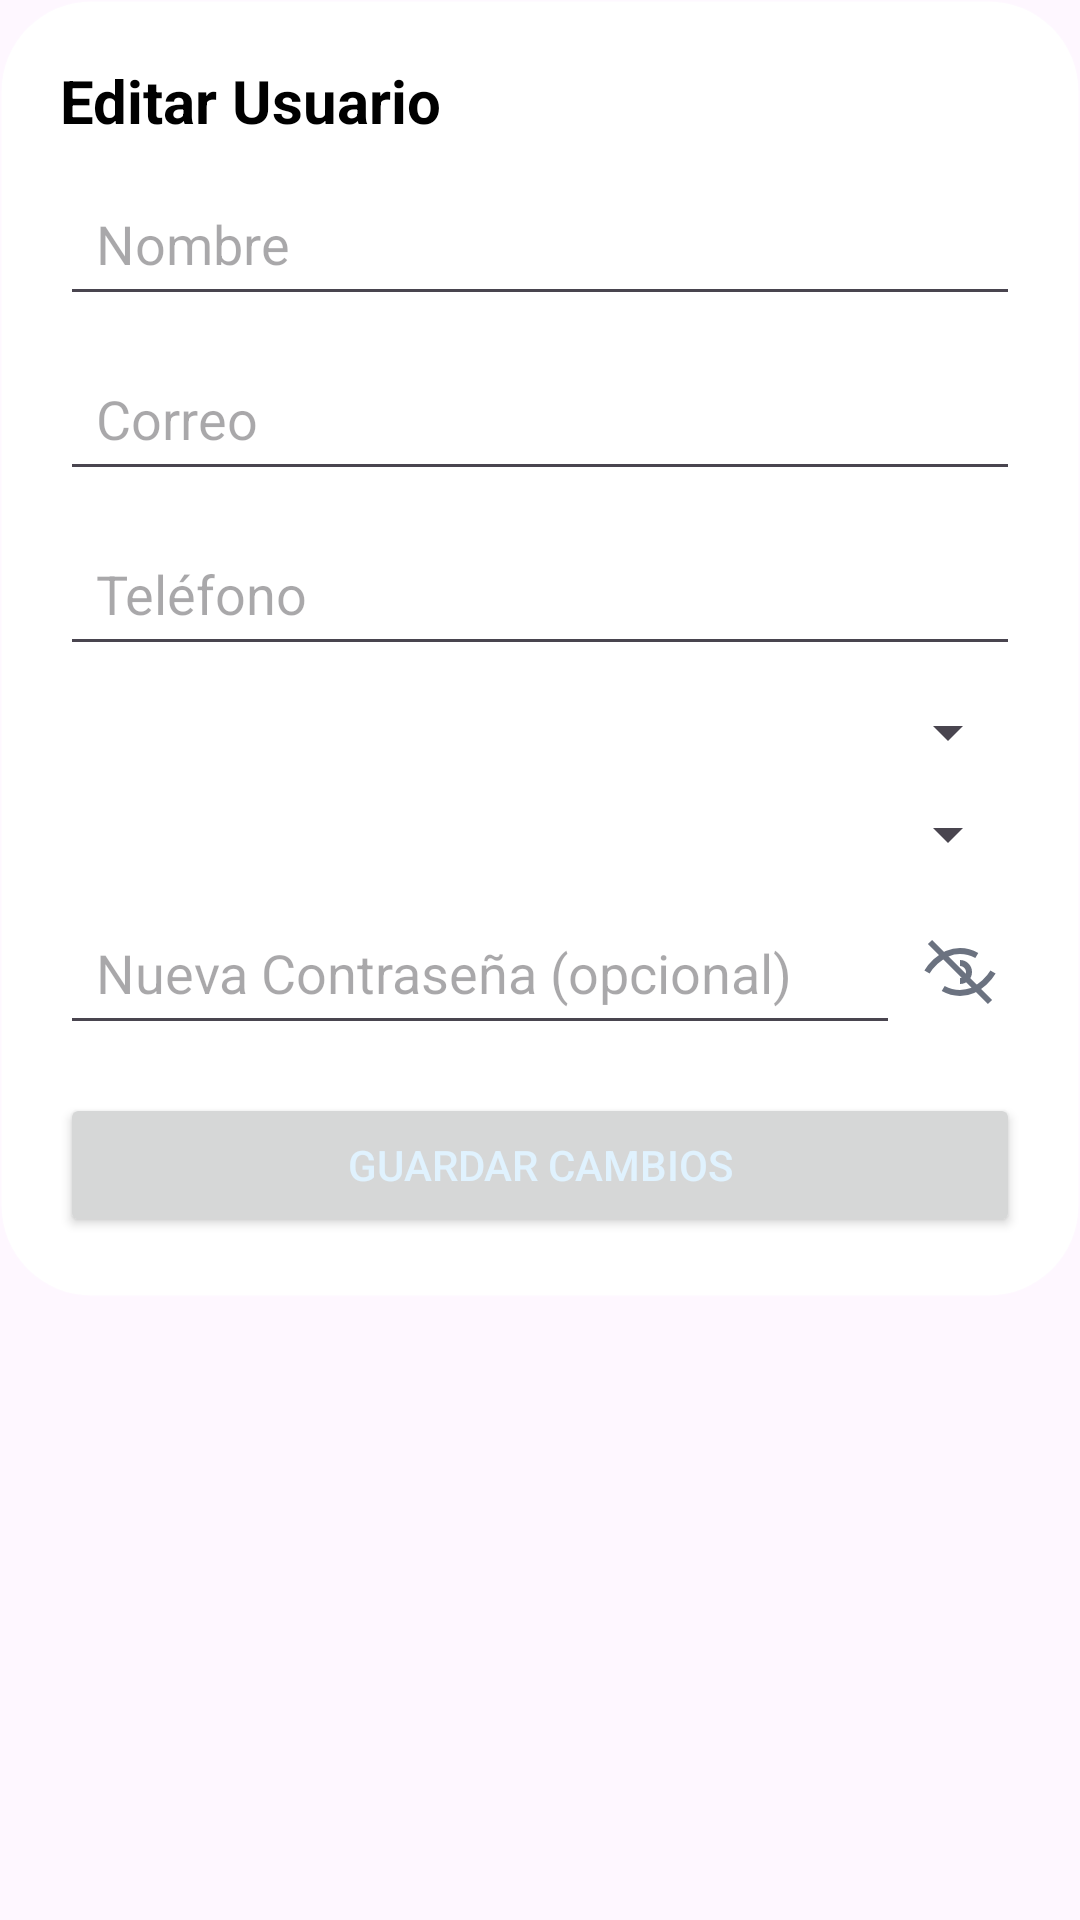

Icons on this 1080 × 1920 Android screen, each with its box as (x1, y1, x2, y2):
eye off: (924, 940, 996, 1004)
